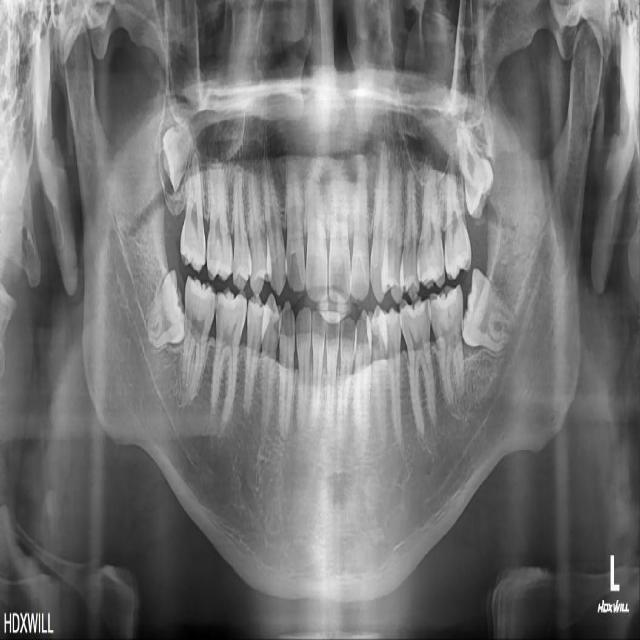Filling: (218, 289, 244, 309), (435, 289, 458, 310), (190, 281, 212, 299), (404, 303, 427, 320)
impacted tooth: (462, 269, 517, 350), (139, 271, 189, 350), (457, 118, 495, 215)
